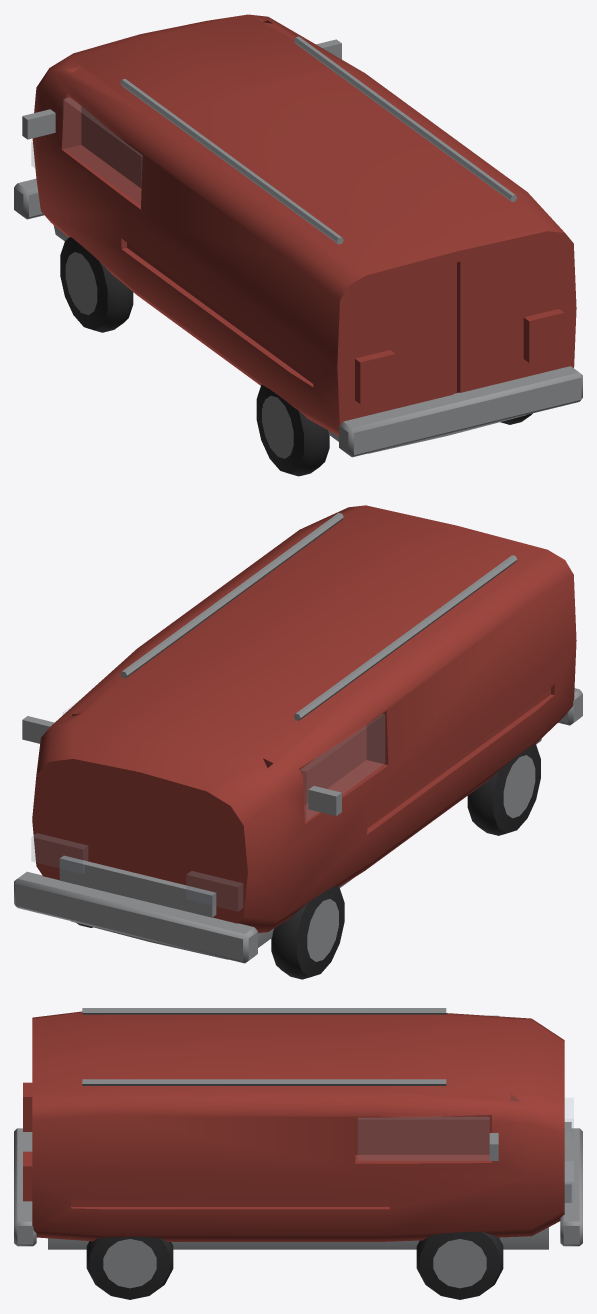
The model's file is prop_hovercar.glb.
3 renders of one model, top to bottom at view 1: azimuth 30°, elevation 25°; view 2: azimuth 150°, elevation 25°; view 3: azimuth 270°, elevation 25°, orthographic. The views are drawn at different scales.
Parts seen in each view (by area): view 1: prop_hovercar; view 2: prop_hovercar; view 3: prop_hovercar.
Boxes of the visible parts, <box> form: prop_hovercar: <box>14,14,582,476</box>; prop_hovercar: <box>14,505,582,979</box>; prop_hovercar: <box>14,1008,582,1299</box>.
Size of what is drawn, in the model's own units: 2.68 by 2.04 by 5.
